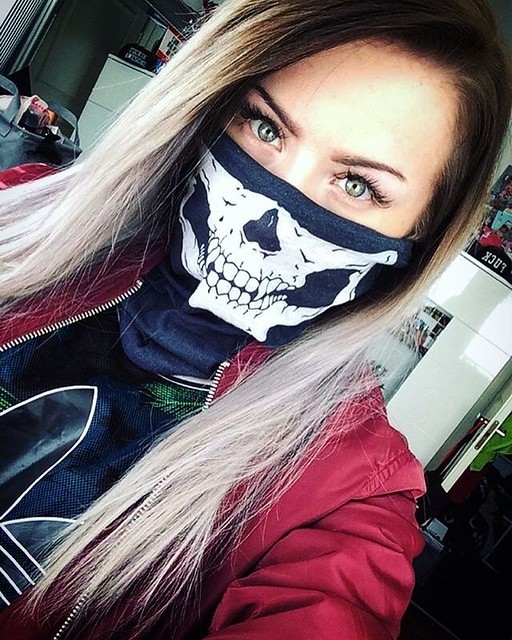face_with_mask: (167, 9, 470, 363)
